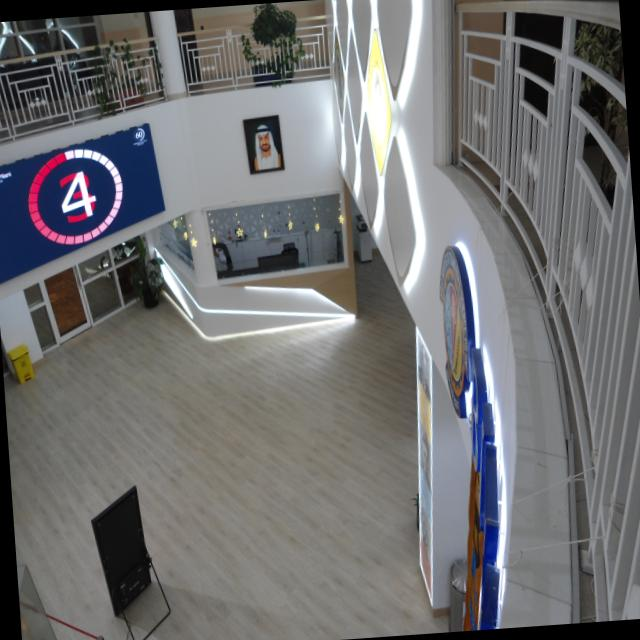board: (0, 123, 177, 291), (238, 112, 290, 174)
door: (32, 262, 102, 346)
dustbin: (12, 346, 42, 382)
pillar: (412, 324, 478, 616), (142, 9, 188, 100)
railing: (448, 0, 640, 628), (0, 43, 155, 142), (172, 17, 347, 97)
window: (205, 197, 356, 280)
